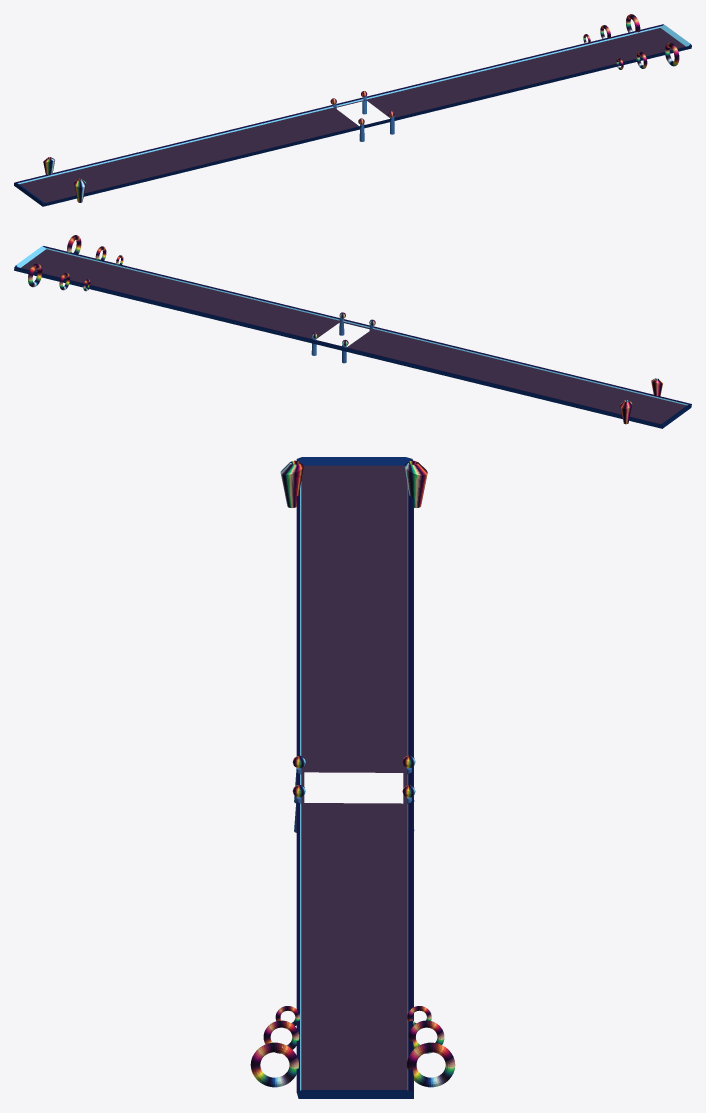
File: Level_2.fbx
The picture shows the model from 3 angles, top to bottom: view 1: azimuth 30°, elevation 25°; view 2: azimuth 150°, elevation 25°; view 3: azimuth 270°, elevation 25°; orthographic projection. The views are drawn at different scales.
Visible parts, largest first — view 1: Level_1; view 2: Level_1; view 3: Level_1.
Boxes of the visible parts, x1,y1,x2,y2 form: Level_1: [14, 14, 691, 206]; Level_1: [14, 235, 691, 428]; Level_1: [250, 457, 455, 1098].
Bounding box in the file's own units: 77228 × 3521 × 10543.
Materials: 1 (1 with a texture image).
